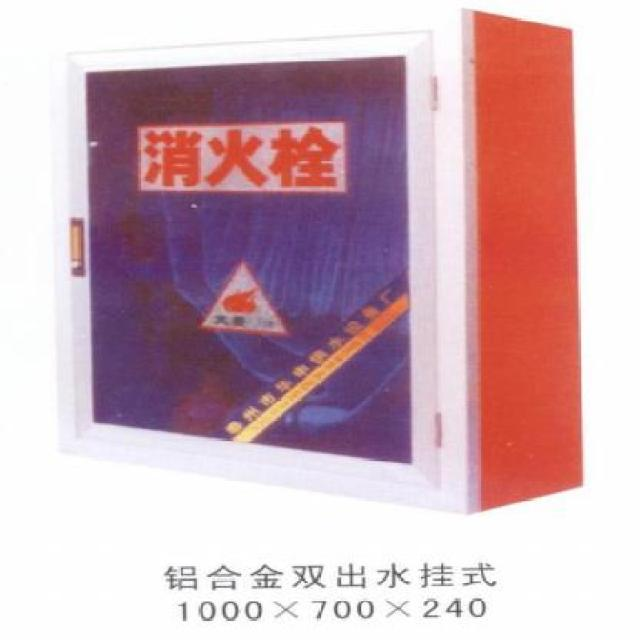firehydrant: (51, 4, 590, 524)
